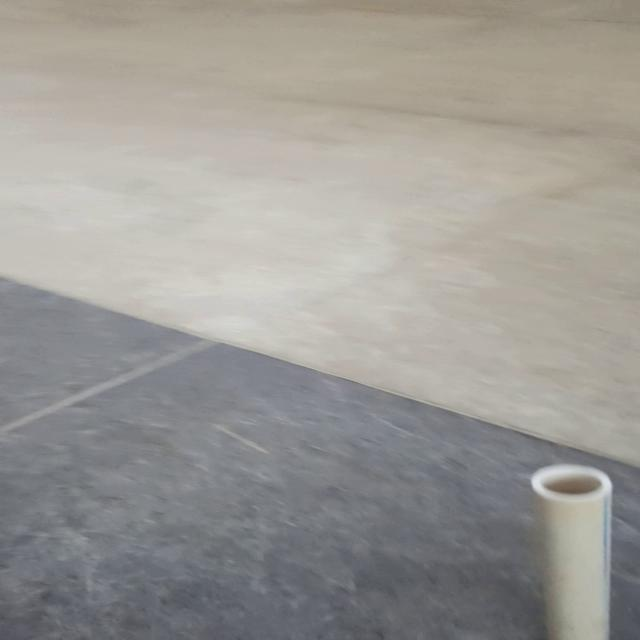Cube: (528, 462, 613, 638)
